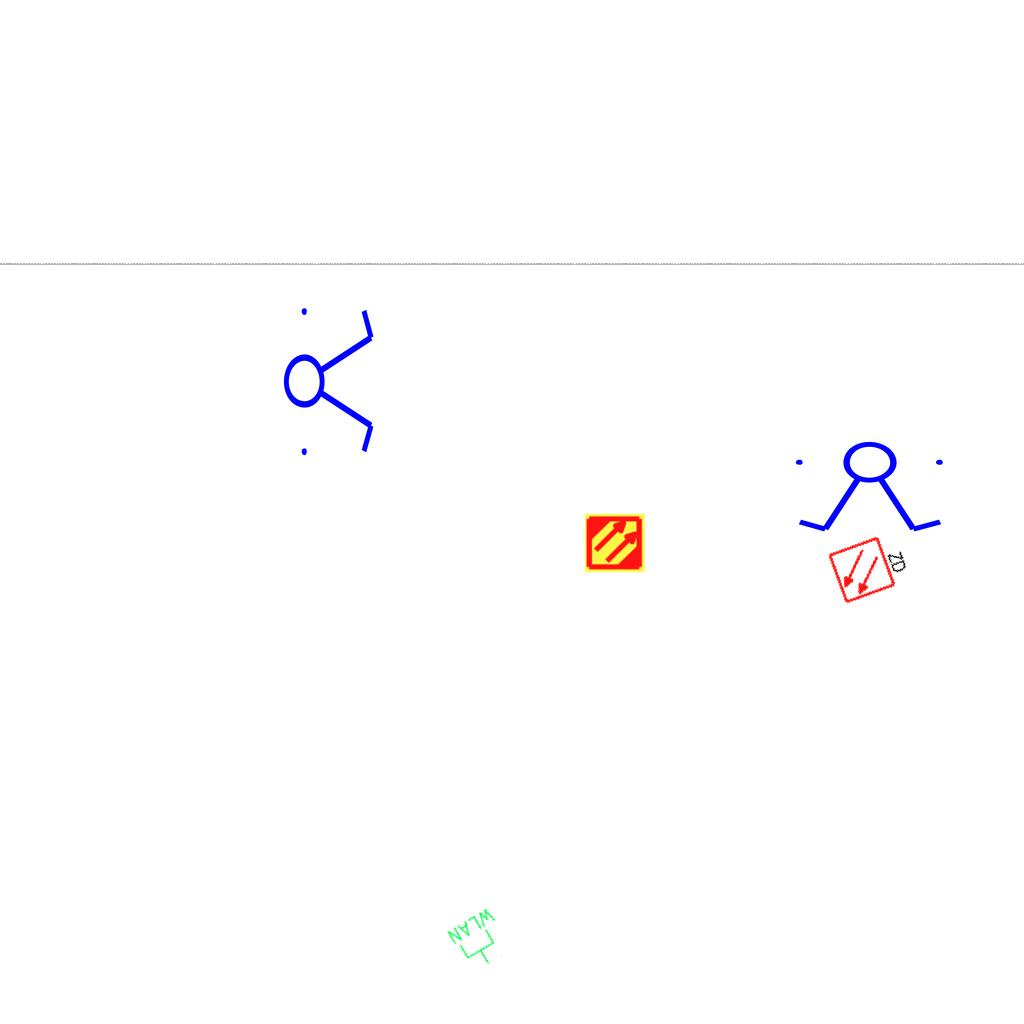ASR_Ansaugrauchmelder: (584, 512, 646, 574)
Serienschalter: (787, 440, 955, 536), (282, 296, 378, 464)
WLAN: (444, 904, 516, 976)
ZD_Melder_in_Zwischendecke_mit_Revisionsoeffnung_mind_40_x_40_cm: (825, 526, 916, 606)
